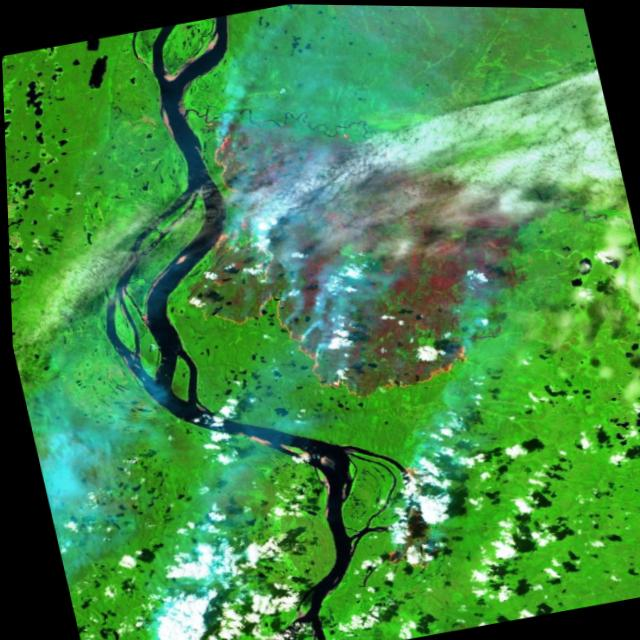fire: (151, 87, 475, 432), (358, 457, 446, 578)
